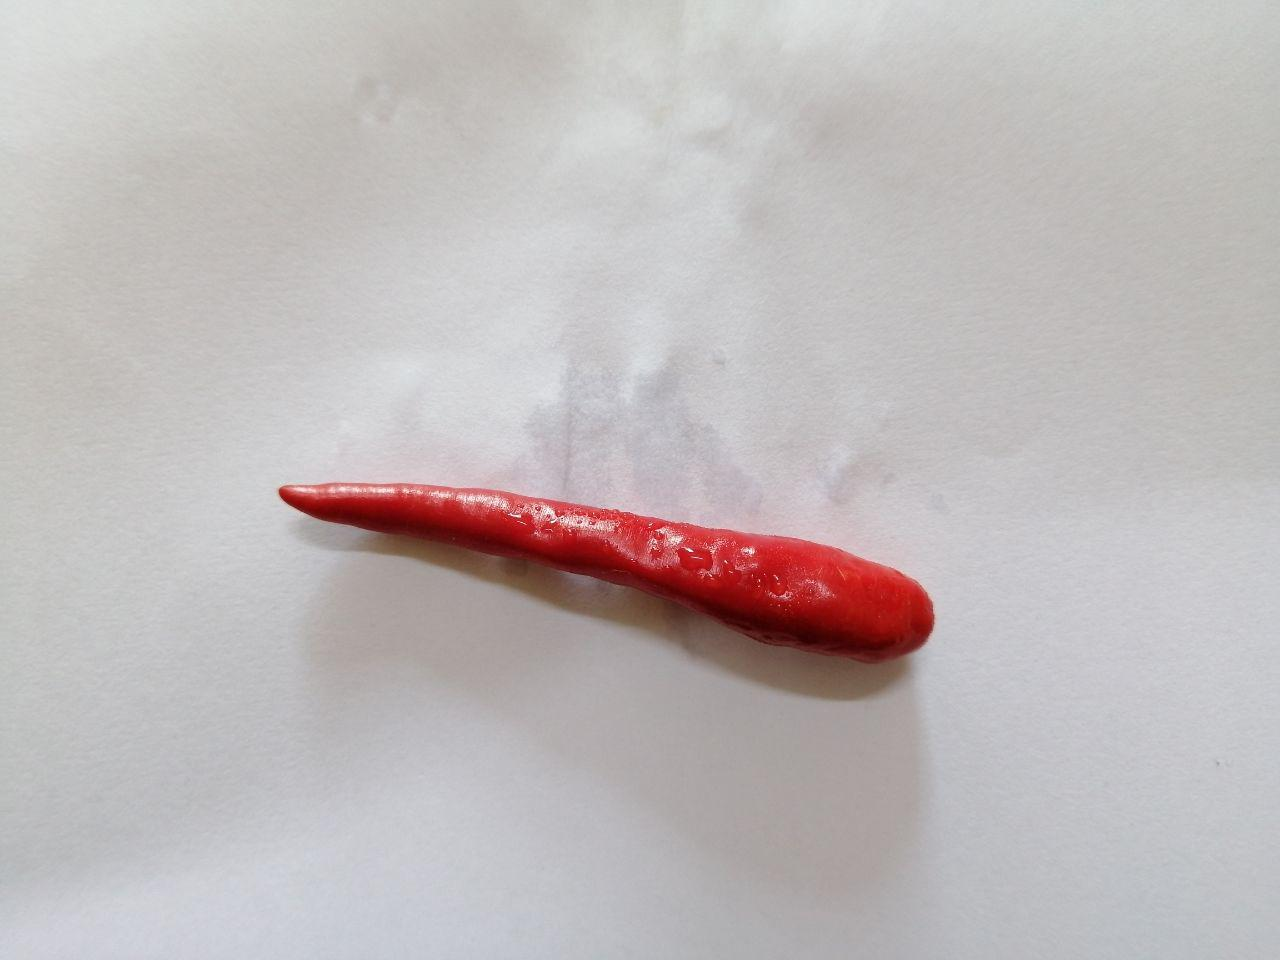lada merah: (243, 447, 968, 693)
